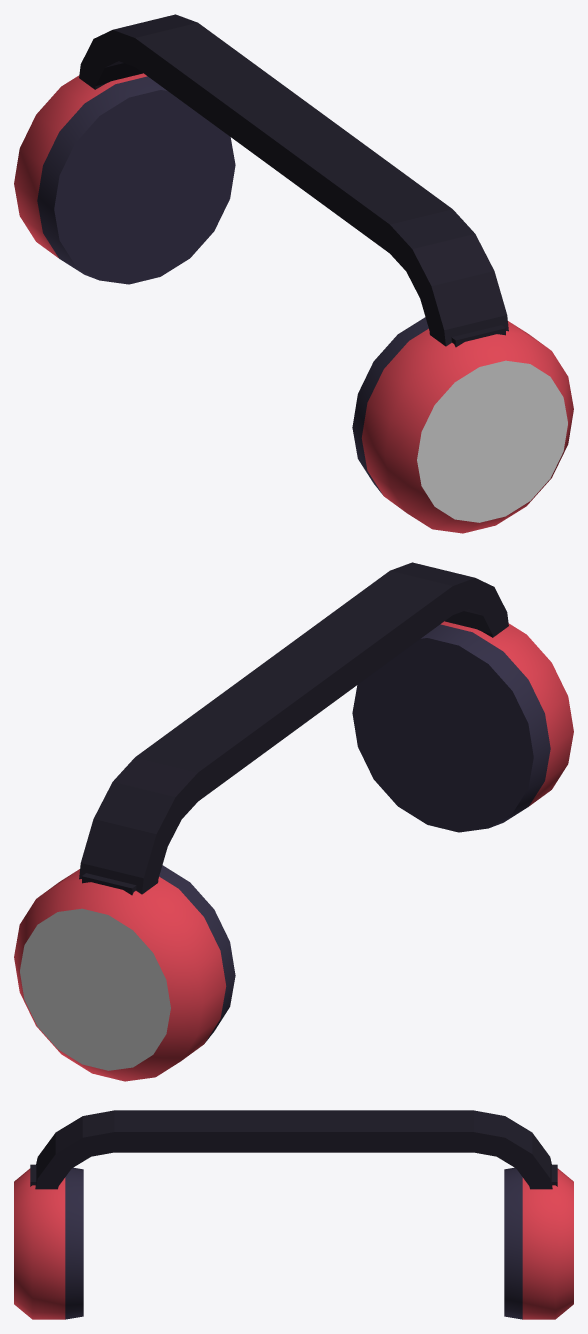
File: headphones.glb
The picture shows the model from 3 angles, top to bottom: view 1: azimuth 30°, elevation 25°; view 2: azimuth 150°, elevation 25°; view 3: azimuth 270°, elevation 25°; orthographic projection. The views are drawn at different scales.
Visible parts, largest first — view 1: Cups, Band; view 2: Cups, Band; view 3: Band, Cups.
Part boxes in pixels (bbox=[...]): Cups: bbox=[14, 73, 573, 533]; Band: bbox=[79, 14, 508, 346]; Cups: bbox=[14, 621, 573, 1081]; Band: bbox=[79, 562, 508, 894]; Band: bbox=[35, 1110, 552, 1189]; Cups: bbox=[14, 1164, 573, 1319].
Size of the model in its own units: 0.15 by 0.2049 by 0.546.
